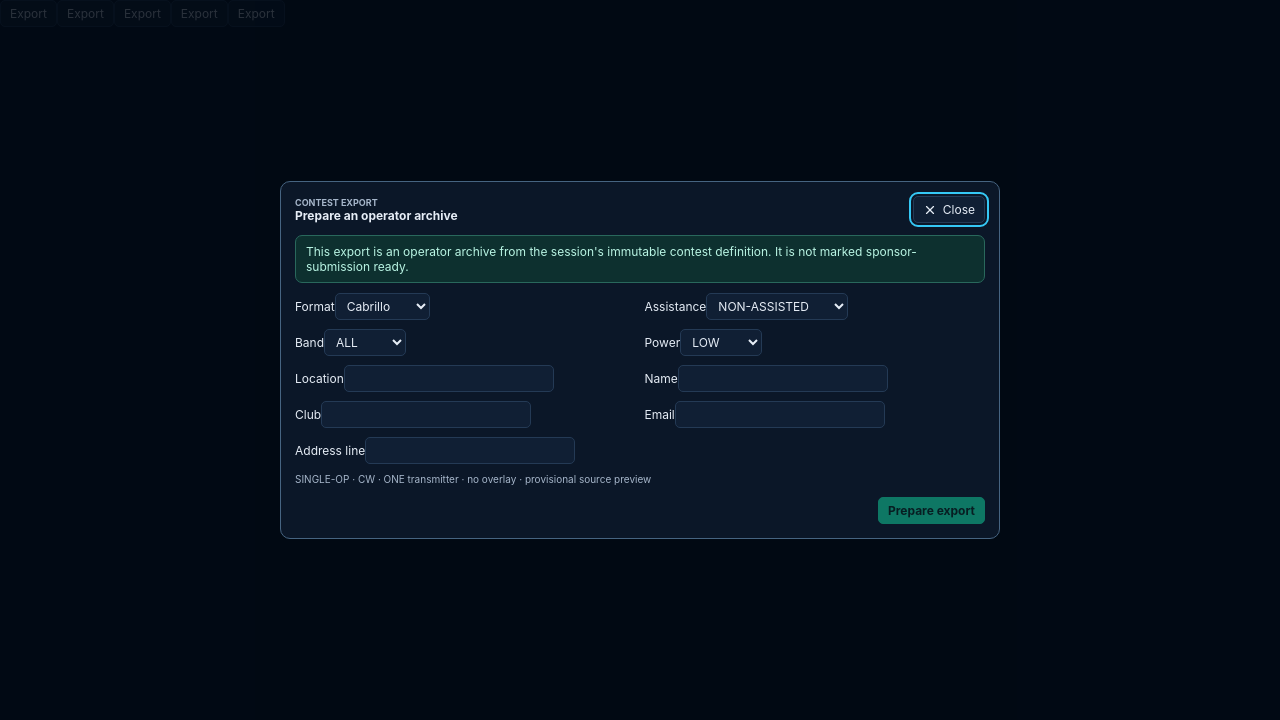
Test case: labels declarative output as an operator archive before and after preparation
Expected: the heading "Prepare an operator archive" is shown, [295, 208, 458, 222]
Expected: the text "not marked sponsor-submission ready" is shown, [306, 244, 917, 274]
In the field labelled "Location": (449, 378) [344, 365, 554, 392], type "DX"
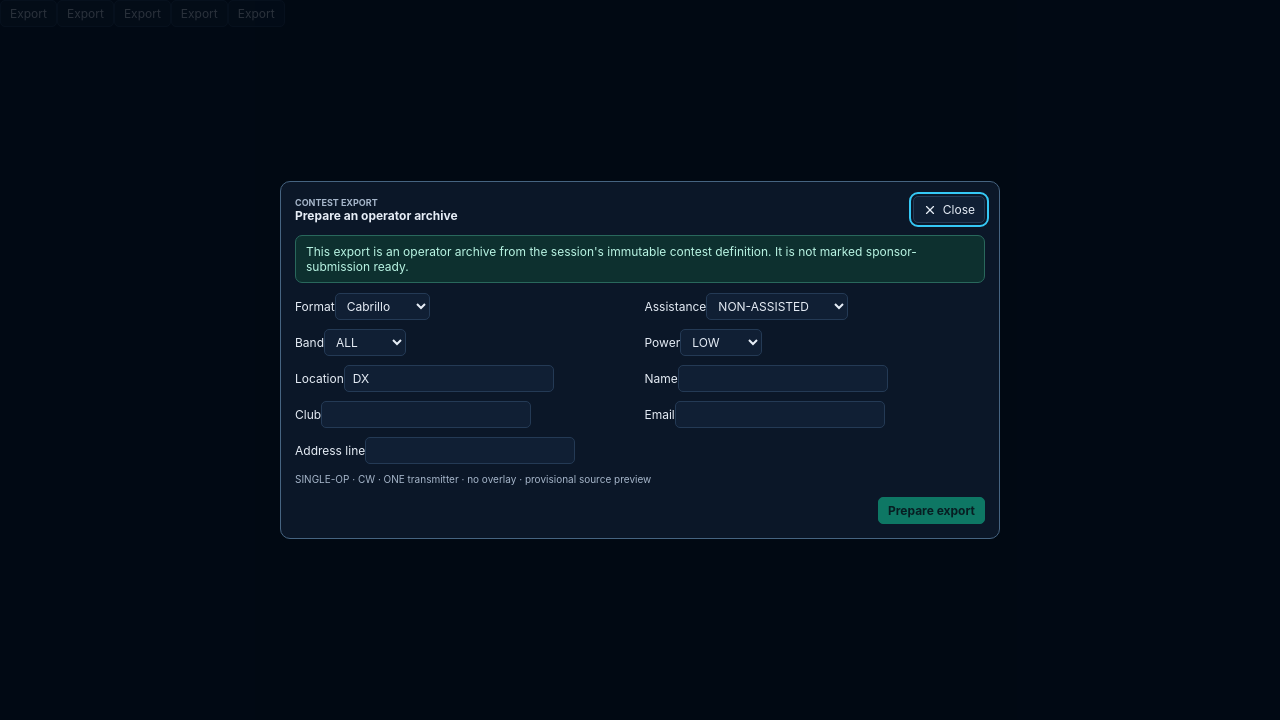
In the field labelled "Name": (783, 378) [678, 365, 888, 392], type "Operator"
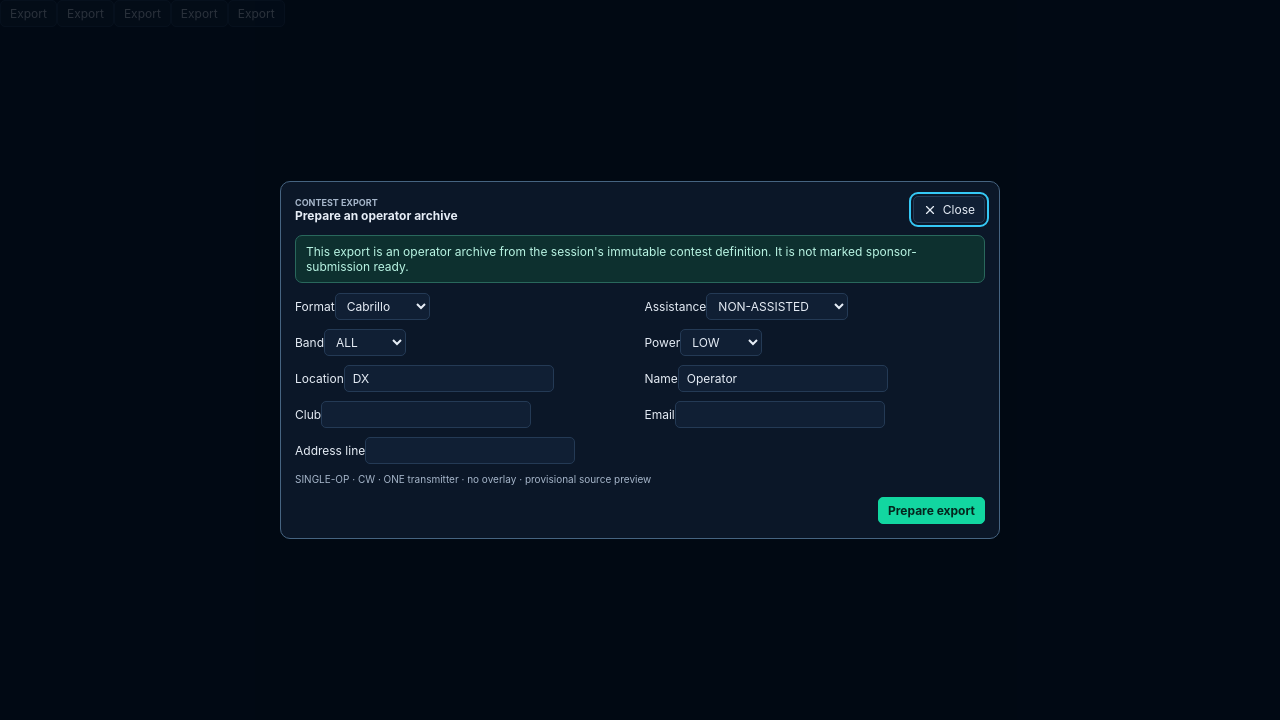
Click the button "Prepare export": (931, 510) [878, 497, 985, 524]
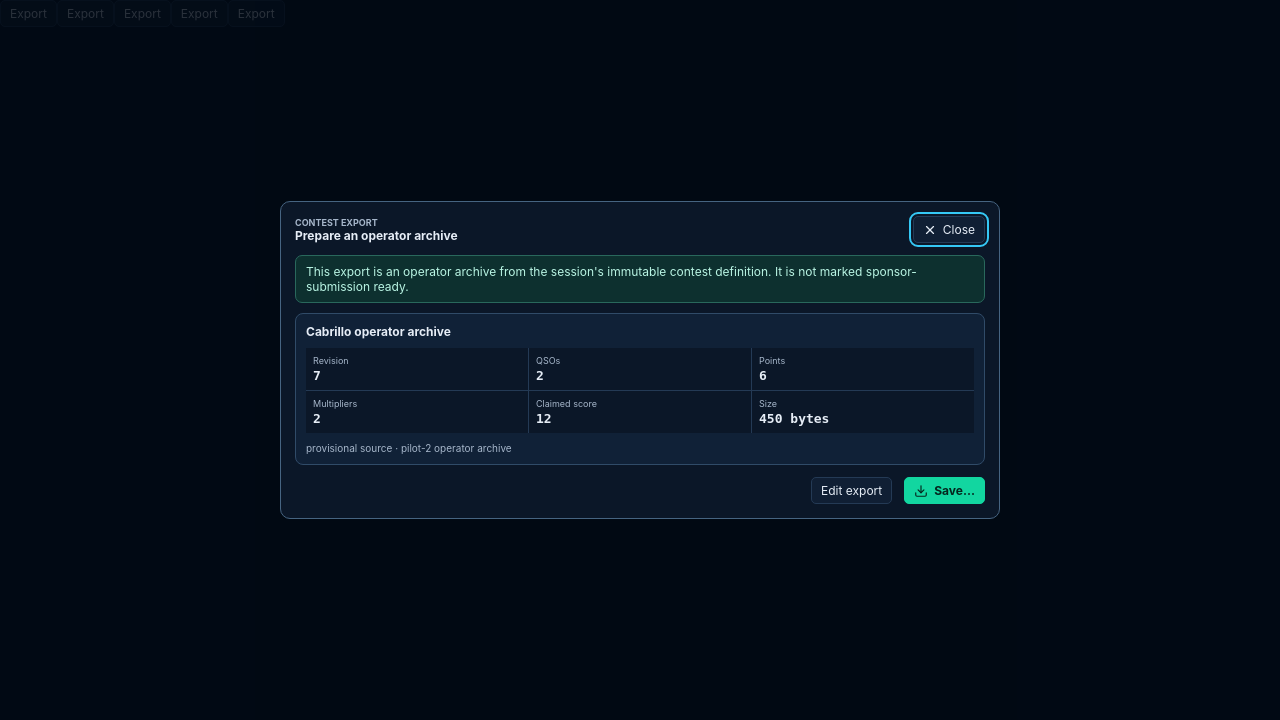
Now the text "Cabrillo operator archive" is shown, box [306, 324, 451, 339]
